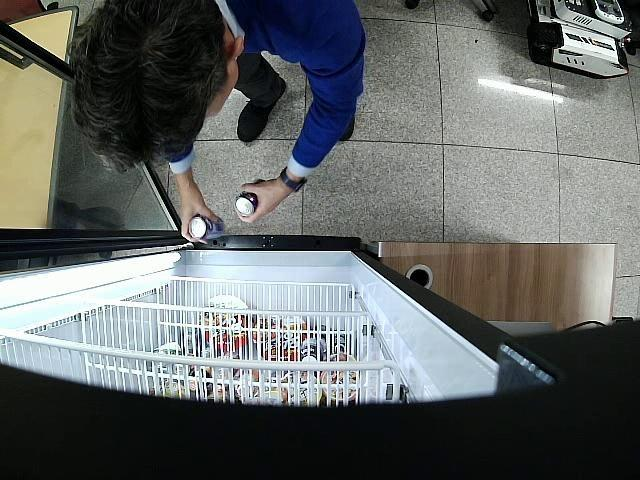14_welchsGrape: (235, 179, 266, 216), (189, 216, 224, 240)
